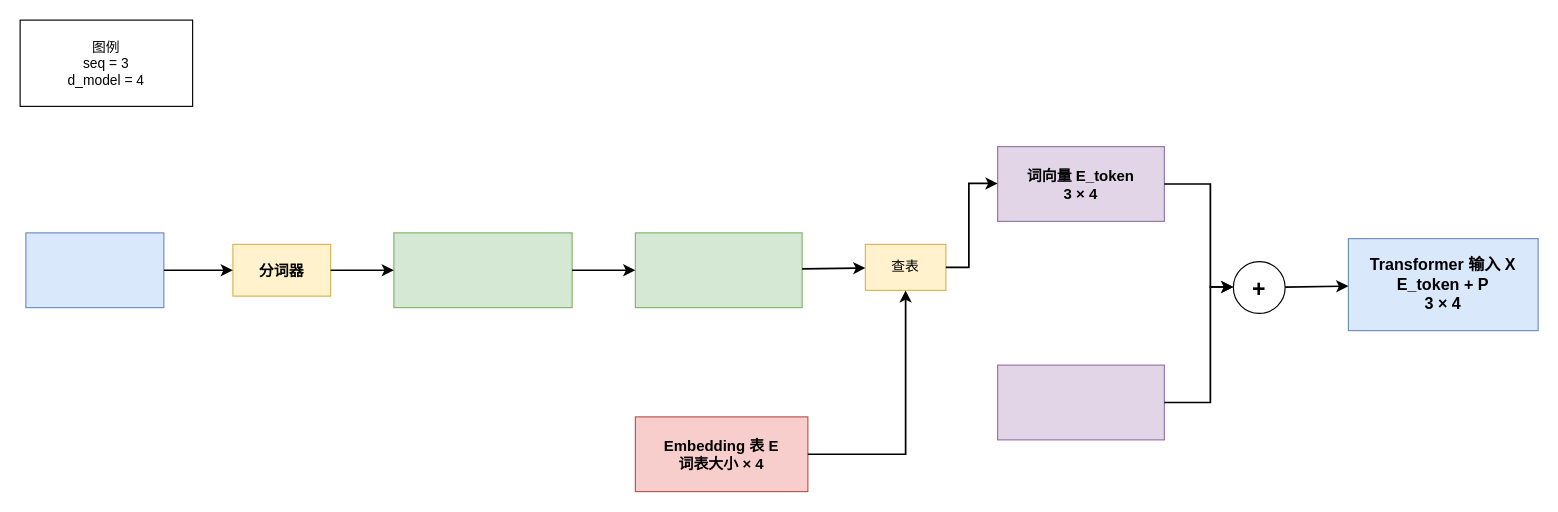
Image size: 1558x512. Some labels were removed from this diagram. The box of each missing label's shape, as (x1, y1, x2, y2) in pixels:
token IDs [314, 926, 72]: (634, 232, 802, 308)
tokens [我的, 名字, 是]: (393, 232, 572, 308)
位置向量 P 3 × 4: (996, 364, 1164, 440)
文本 我的名字是: (25, 232, 164, 308)
